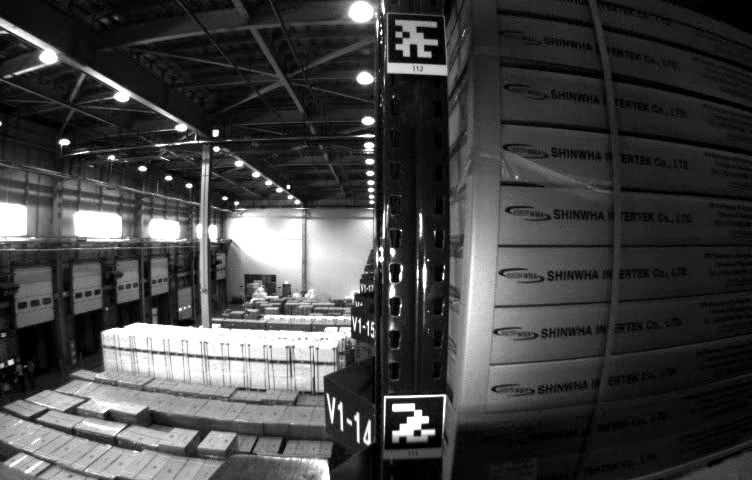True Barcode: (490, 457, 541, 479)
